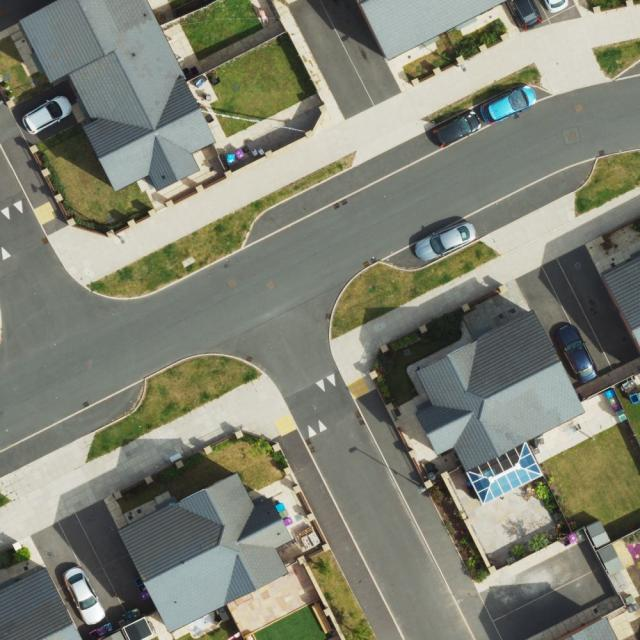roof: (16, 0, 216, 191), (416, 305, 587, 503), (120, 468, 292, 634), (360, 0, 508, 59), (0, 572, 82, 640), (602, 253, 640, 353)
skylight: (466, 439, 544, 505)
